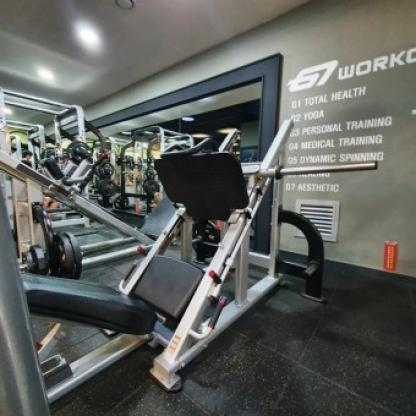leg press: (0, 105, 393, 416)
